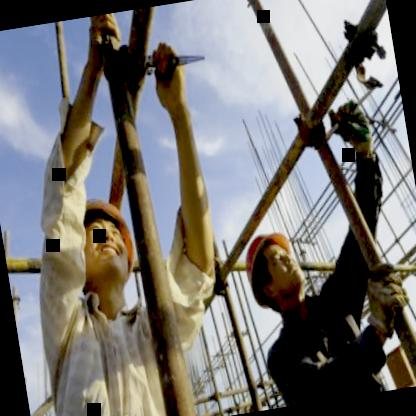helmet: (62, 185, 148, 303), (237, 222, 309, 318)
